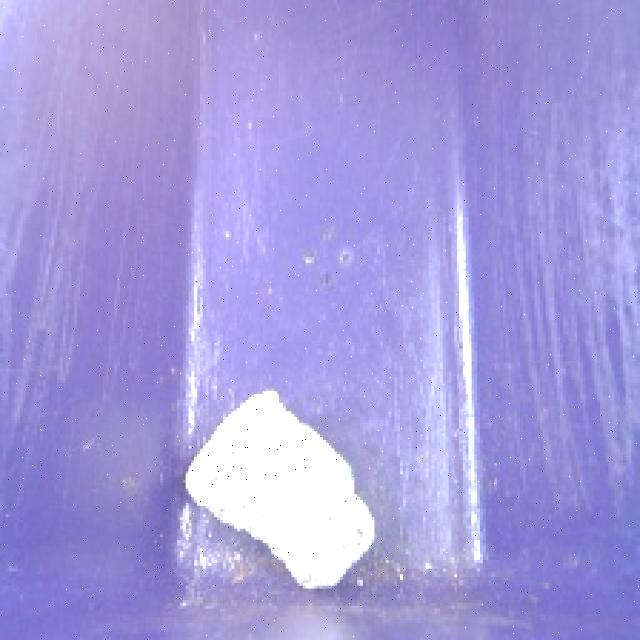brick: (175, 366, 381, 598)
